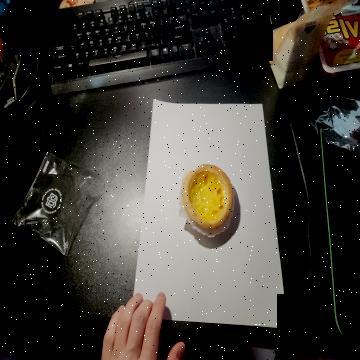EggTart: (181, 162, 234, 230)
